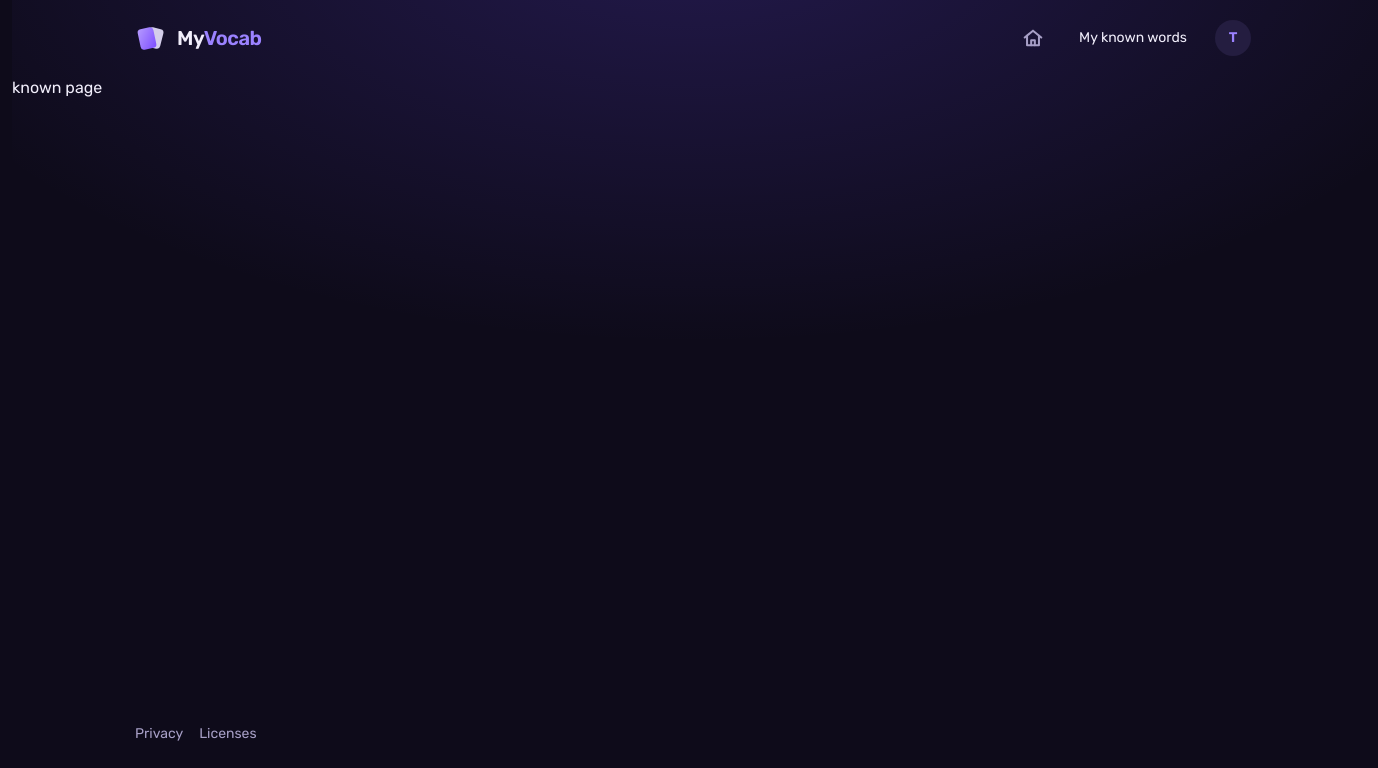
Test: header (FR-L70) › signs out and returns home
Click the button named "Account menu": coordinates (1233, 38) [1211,16,1255,60]
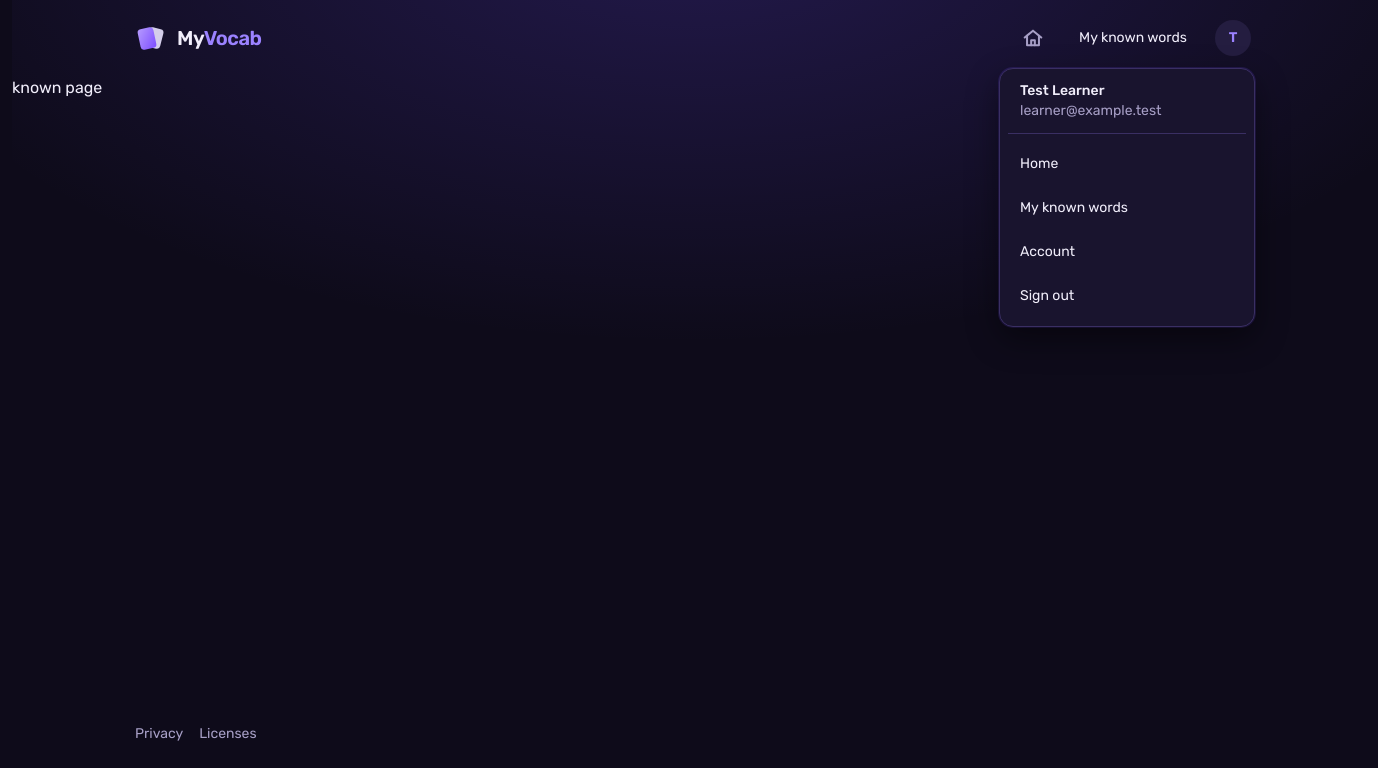
Click the button "Sign out": coordinates (1127, 296) [1008,274,1246,318]
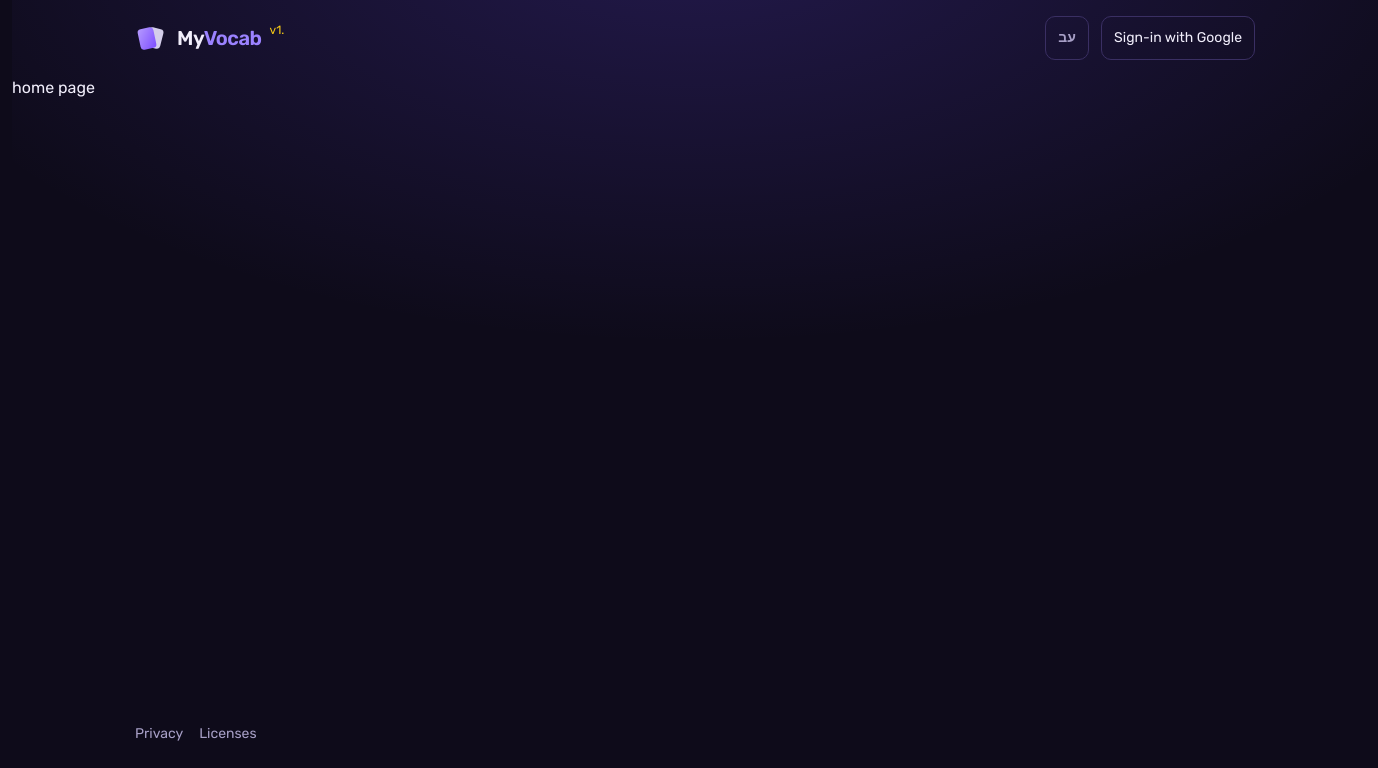
Check: the button "Sign-in with Google" is shown, box [1101,16,1255,60]
